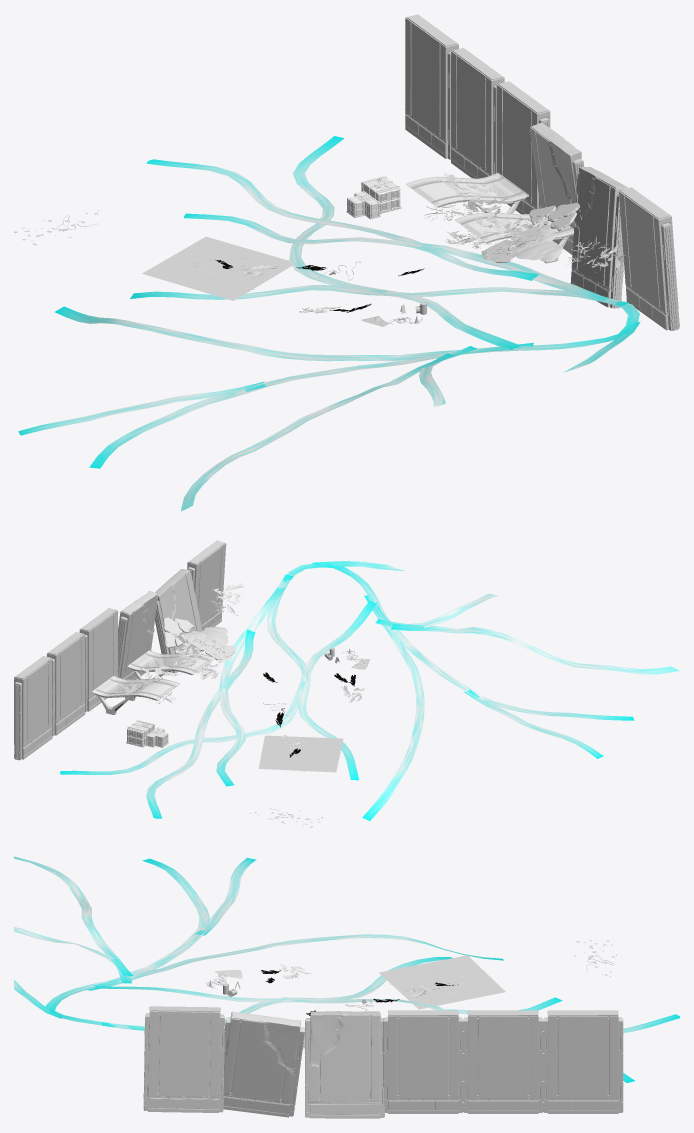
The model's file is cell_173_119.fbx.
3 views of the same model, one above another, from view 1: azimuth 30°, elevation 25°; view 2: azimuth 150°, elevation 25°; view 3: azimuth 270°, elevation 25° (orthographic). The views are drawn at different scales.
Visible parts, largest first — view 1: SpaceCenter_Long3_GenerateRoad_Sand_TireTracks_Width_Mesh_x., SM_H_Fence_Metal_1024x768_01.mo.297, SM_H_Fence_Metal_1024x768_01.mo.294, SM_H_Fence_Metal_1024x768_01C.mo.022, SM_H_Fence_Metal_1024x768_01.mo.295, SM_DECOR_GrassDebris_Less_01_HD.mo.1762, SM_H_Fence_Metal_1024x768_01.mo.296, SM_H_Fence_Metal_1024x768_01C.mo.021, SM_H_Transport_Utility_ParkingShed_01.mo.007, SM_H_Transport_Utility_ParkingShed_01.mo.008, SM_H_Industrial_Container_SupplyBox_01.mo.499, SM_H_Fence_Metal_1024x768_01E.mo.024 (+2 smaller); view 2: SpaceCenter_Long3_GenerateRoad_Sand_TireTracks_Width_Mesh_x., SM_H_Fence_Metal_1024x768_01.mo.294, SM_H_Fence_Metal_1024x768_01.mo.295, SM_H_Fence_Metal_1024x768_01.mo.296, SM_DECOR_GrassDebris_Less_01_HD.mo.1762, SM_H_Fence_Metal_1024x768_01C.mo.021, SM_H_Fence_Metal_1024x768_01C.mo.022, SM_H_Fence_Metal_1024x768_01.mo.297, SM_H_Transport_Utility_ParkingShed_01.mo.007, SM_H_Transport_Utility_ParkingShed_01.mo.008, SM_H_Fence_Metal_1024x768_01E.mo.024, SM_H_Fence_Metal_1024x768_01E.mo.025 (+1 smaller); view 3: SpaceCenter_Long3_GenerateRoad_Sand_TireTracks_Width_Mesh_x., SM_H_Fence_Metal_1024x768_01.mo.297, SM_H_Fence_Metal_1024x768_01C.mo.021, SM_H_Fence_Metal_1024x768_01.mo.294, SM_H_Fence_Metal_1024x768_01.mo.295, SM_H_Fence_Metal_1024x768_01.mo.296, SM_H_Fence_Metal_1024x768_01C.mo.022, SM_DECOR_GrassDebris_Less_01_HD.mo.1762.
Part boxes in pixels (x1,y1,x2,y2): SpaceCenter_Long3_GenerateRoad_Sand_TireTracks_Width_Mesh_x.: [18, 136, 640, 511]; SM_H_Fence_Metal_1024x768_01.mo.297: [618, 187, 679, 330]; SM_H_Fence_Metal_1024x768_01.mo.294: [405, 14, 458, 159]; SM_H_Fence_Metal_1024x768_01C.mo.022: [570, 167, 627, 308]; SM_H_Fence_Metal_1024x768_01.mo.295: [450, 48, 504, 192]; SM_DECOR_GrassDebris_Less_01_HD.mo.1762: [142, 236, 291, 300]; SM_H_Fence_Metal_1024x768_01.mo.296: [496, 81, 550, 224]; SM_H_Fence_Metal_1024x768_01C.mo.021: [529, 122, 584, 254]; SM_H_Transport_Utility_ParkingShed_01.mo.007: [406, 172, 528, 225]; SM_H_Transport_Utility_ParkingShed_01.mo.008: [454, 212, 573, 263]; SM_H_Industrial_Container_SupplyBox_01.mo.499: [361, 176, 401, 213]; SM_H_Fence_Metal_1024x768_01E.mo.024: [526, 202, 580, 231]; SpaceCenter_Long3_GenerateRoad_Sand_TireTracks_Width_Mesh_x.: [60, 561, 679, 820]; SM_H_Fence_Metal_1024x768_01.mo.294: [14, 656, 52, 760]; SM_H_Fence_Metal_1024x768_01.mo.295: [46, 632, 85, 735]; SM_H_Fence_Metal_1024x768_01.mo.296: [79, 608, 118, 712]; SM_DECOR_GrassDebris_Less_01_HD.mo.1762: [258, 735, 343, 772]; SM_H_Fence_Metal_1024x768_01C.mo.021: [118, 590, 157, 690]; SM_H_Fence_Metal_1024x768_01C.mo.022: [155, 569, 202, 673]; SM_H_Fence_Metal_1024x768_01.mo.297: [187, 540, 226, 630]; SM_H_Transport_Utility_ParkingShed_01.mo.007: [92, 676, 179, 714]; SM_H_Transport_Utility_ParkingShed_01.mo.008: [127, 650, 215, 685]; SM_H_Fence_Metal_1024x768_01E.mo.024: [163, 617, 193, 648]; SM_H_Fence_Metal_1024x768_01E.mo.025: [187, 634, 235, 659]; SpaceCenter_Long3_GenerateRoad_Sand_TireTracks_Width_Mesh_x.: [14, 856, 679, 1082]; SM_H_Fence_Metal_1024x768_01.mo.297: [143, 1006, 224, 1112]; SM_H_Fence_Metal_1024x768_01C.mo.021: [305, 1011, 384, 1118]; SM_H_Fence_Metal_1024x768_01.mo.294: [543, 1010, 623, 1113]; SM_H_Fence_Metal_1024x768_01.mo.295: [463, 1010, 543, 1113]; SM_H_Fence_Metal_1024x768_01.mo.296: [383, 1010, 463, 1113]; SM_H_Fence_Metal_1024x768_01C.mo.022: [223, 1011, 304, 1117]; SM_DECOR_GrassDebris_Less_01_HD.mo.1762: [379, 955, 505, 1009].
Bounding box in the file's own units: 59.49 × 13.44 × 64.
